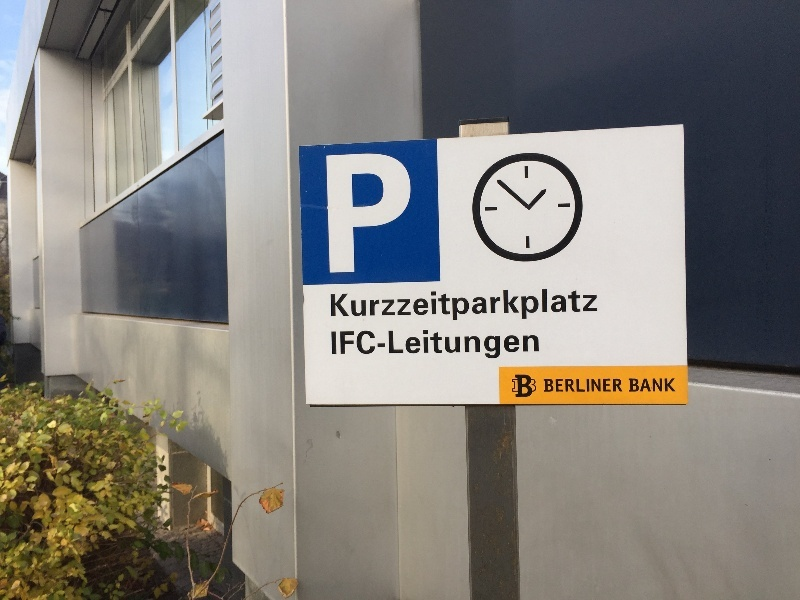text: (337, 152, 352, 274), (353, 152, 368, 274), (369, 152, 384, 274), (385, 152, 400, 274), (401, 152, 414, 274), (326, 152, 336, 274), (337, 287, 352, 325), (353, 287, 368, 325), (369, 287, 384, 325), (385, 287, 400, 325), (401, 287, 416, 325), (417, 287, 432, 325), (433, 287, 448, 325), (449, 287, 464, 325), (465, 287, 480, 325), (481, 287, 496, 325), (497, 287, 512, 325), (513, 287, 528, 325), (529, 287, 544, 325), (545, 287, 560, 325), (561, 287, 576, 325), (577, 287, 592, 325), (337, 327, 352, 363), (353, 327, 368, 363), (369, 327, 384, 363), (385, 327, 400, 363), (401, 327, 416, 363), (417, 327, 432, 363), (433, 327, 448, 363), (449, 327, 464, 363), (465, 327, 480, 363), (481, 327, 496, 363), (497, 327, 512, 363), (513, 327, 528, 363), (529, 327, 541, 363), (513, 374, 528, 398), (593, 287, 600, 325), (330, 287, 336, 325), (330, 327, 336, 363), (545, 379, 560, 393), (561, 379, 576, 393), (577, 379, 592, 393), (593, 379, 608, 393), (641, 378, 656, 392), (657, 378, 672, 392), (609, 379, 623, 393), (529, 374, 537, 398), (629, 378, 640, 392), (673, 378, 676, 392)
